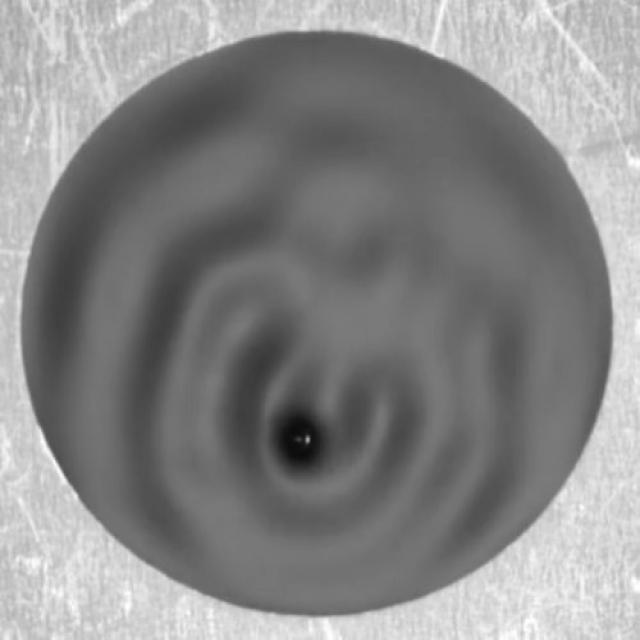droplet: (284, 422, 320, 464)
